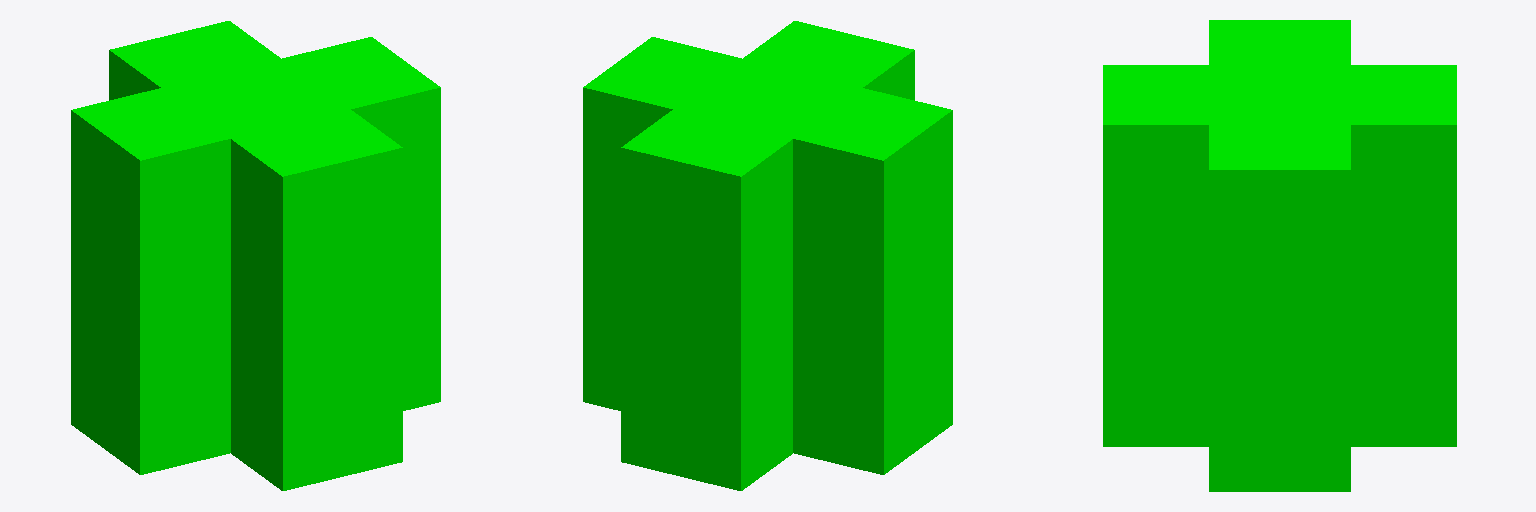
URDF robot description (plus):
<?xml version="1.0" ?>
<robot name="plus">
    <material name="green">
        <color rgba="0 1 0 1"/>
    </material>

    <!-- Horizontal Bar -->
    <link name="horizontalBar">
        <inertial>
            <origin rpy="0 0 0" xyz="0 0 0"/>
            <mass value="0.2"/>
            <inertia ixx="1" ixy="0" ixz="0" iyy="1" iyz="0" izz="1"/>
        </inertial>
        <visual>
            <origin rpy="0 0 0" xyz="0 0 0"/>
            <geometry>
                <box size="0.05 0.02 0.05"/>
            </geometry>
            <material name="green"/>
        </visual>
        <collision>
            <origin rpy="0 0 0" xyz="0 0 0"/>
            <geometry>
                <box size="0.05 0.02 0.05"/>
            </geometry>
        </collision>
    </link>

    <!-- Vertical Bar -->
    <link name="verticalBar">
        <inertial>
            <origin rpy="0 0 0" xyz="0 0 0"/>
            <mass value="0.2"/>
            <inertia ixx="1" ixy="0" ixz="0" iyy="1" iyz="0" izz="1"/>
        </inertial>
        <visual>
            <origin rpy="0 0 0" xyz="0 0 0"/>
            <geometry>
                <box size="0.02 0.05 0.05"/>
            </geometry>
            <material name="green"/>
        </visual>
        <collision>
            <origin rpy="0 0 0" xyz="0 0 0"/>
            <geometry>
                <box size="0.02 0.05 0.05"/>
            </geometry>
        </collision>
    </link>

    <!-- Joint connecting Horizontal and Vertical Bars -->
    <joint name="bar_joint" type="fixed">
        <parent link="horizontalBar"/>
        <child link="verticalBar"/>
        <origin rpy="0 0 0" xyz="0 0 0"/>
    </joint>
</robot>

--- What the picture shows (computed from the rendered views, not written in the file) ---
The picture shows the robot from 3 angles, left to right: view 1: azimuth 30°, elevation 25°; view 2: azimuth 150°, elevation 25°; view 3: azimuth 270°, elevation 25°; orthographic projection.
Model plus with 2 links and 1 joints (1 fixed), rooted at horizontalBar, posed every joint at zero.
Links seen in each view (by area): view 1: horizontalBar, verticalBar; view 2: horizontalBar, verticalBar; view 3: verticalBar, horizontalBar.
Link boxes in pixels (<box>): horizontalBar: <box>71,37,440,474</box>; verticalBar: <box>109,21,402,490</box>; horizontalBar: <box>583,37,952,474</box>; verticalBar: <box>621,21,914,490</box>; verticalBar: <box>1103,65,1456,446</box>; horizontalBar: <box>1209,20,1350,491</box>.
Size in the robot's own frame: 0.05 by 0.05 by 0.05 metres.
Geometry: primitives only (box / cylinder / sphere), no mesh files.